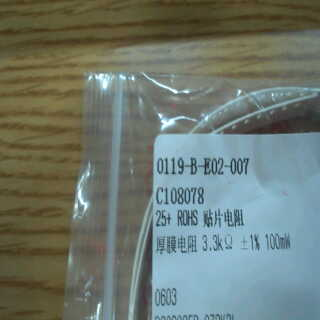3.3kO: (200, 231, 238, 254)
